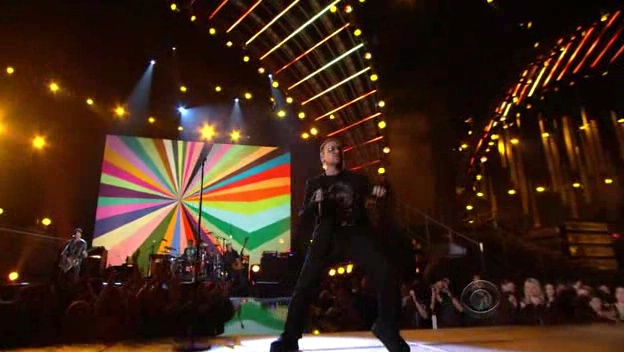person: (309, 143, 374, 262), (306, 143, 371, 262), (312, 143, 377, 262), (309, 140, 374, 259), (309, 146, 374, 265)
target_negative: (26, 98, 437, 205), (221, 101, 307, 297), (495, 157, 607, 289), (559, 46, 609, 231), (386, 331, 604, 338), (504, 109, 515, 246)
